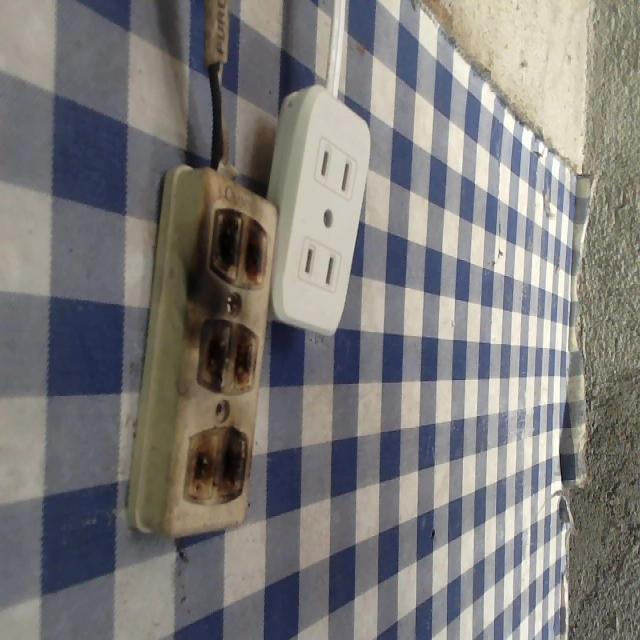-: (200, 205, 274, 291), (179, 424, 249, 505), (194, 316, 261, 389)
